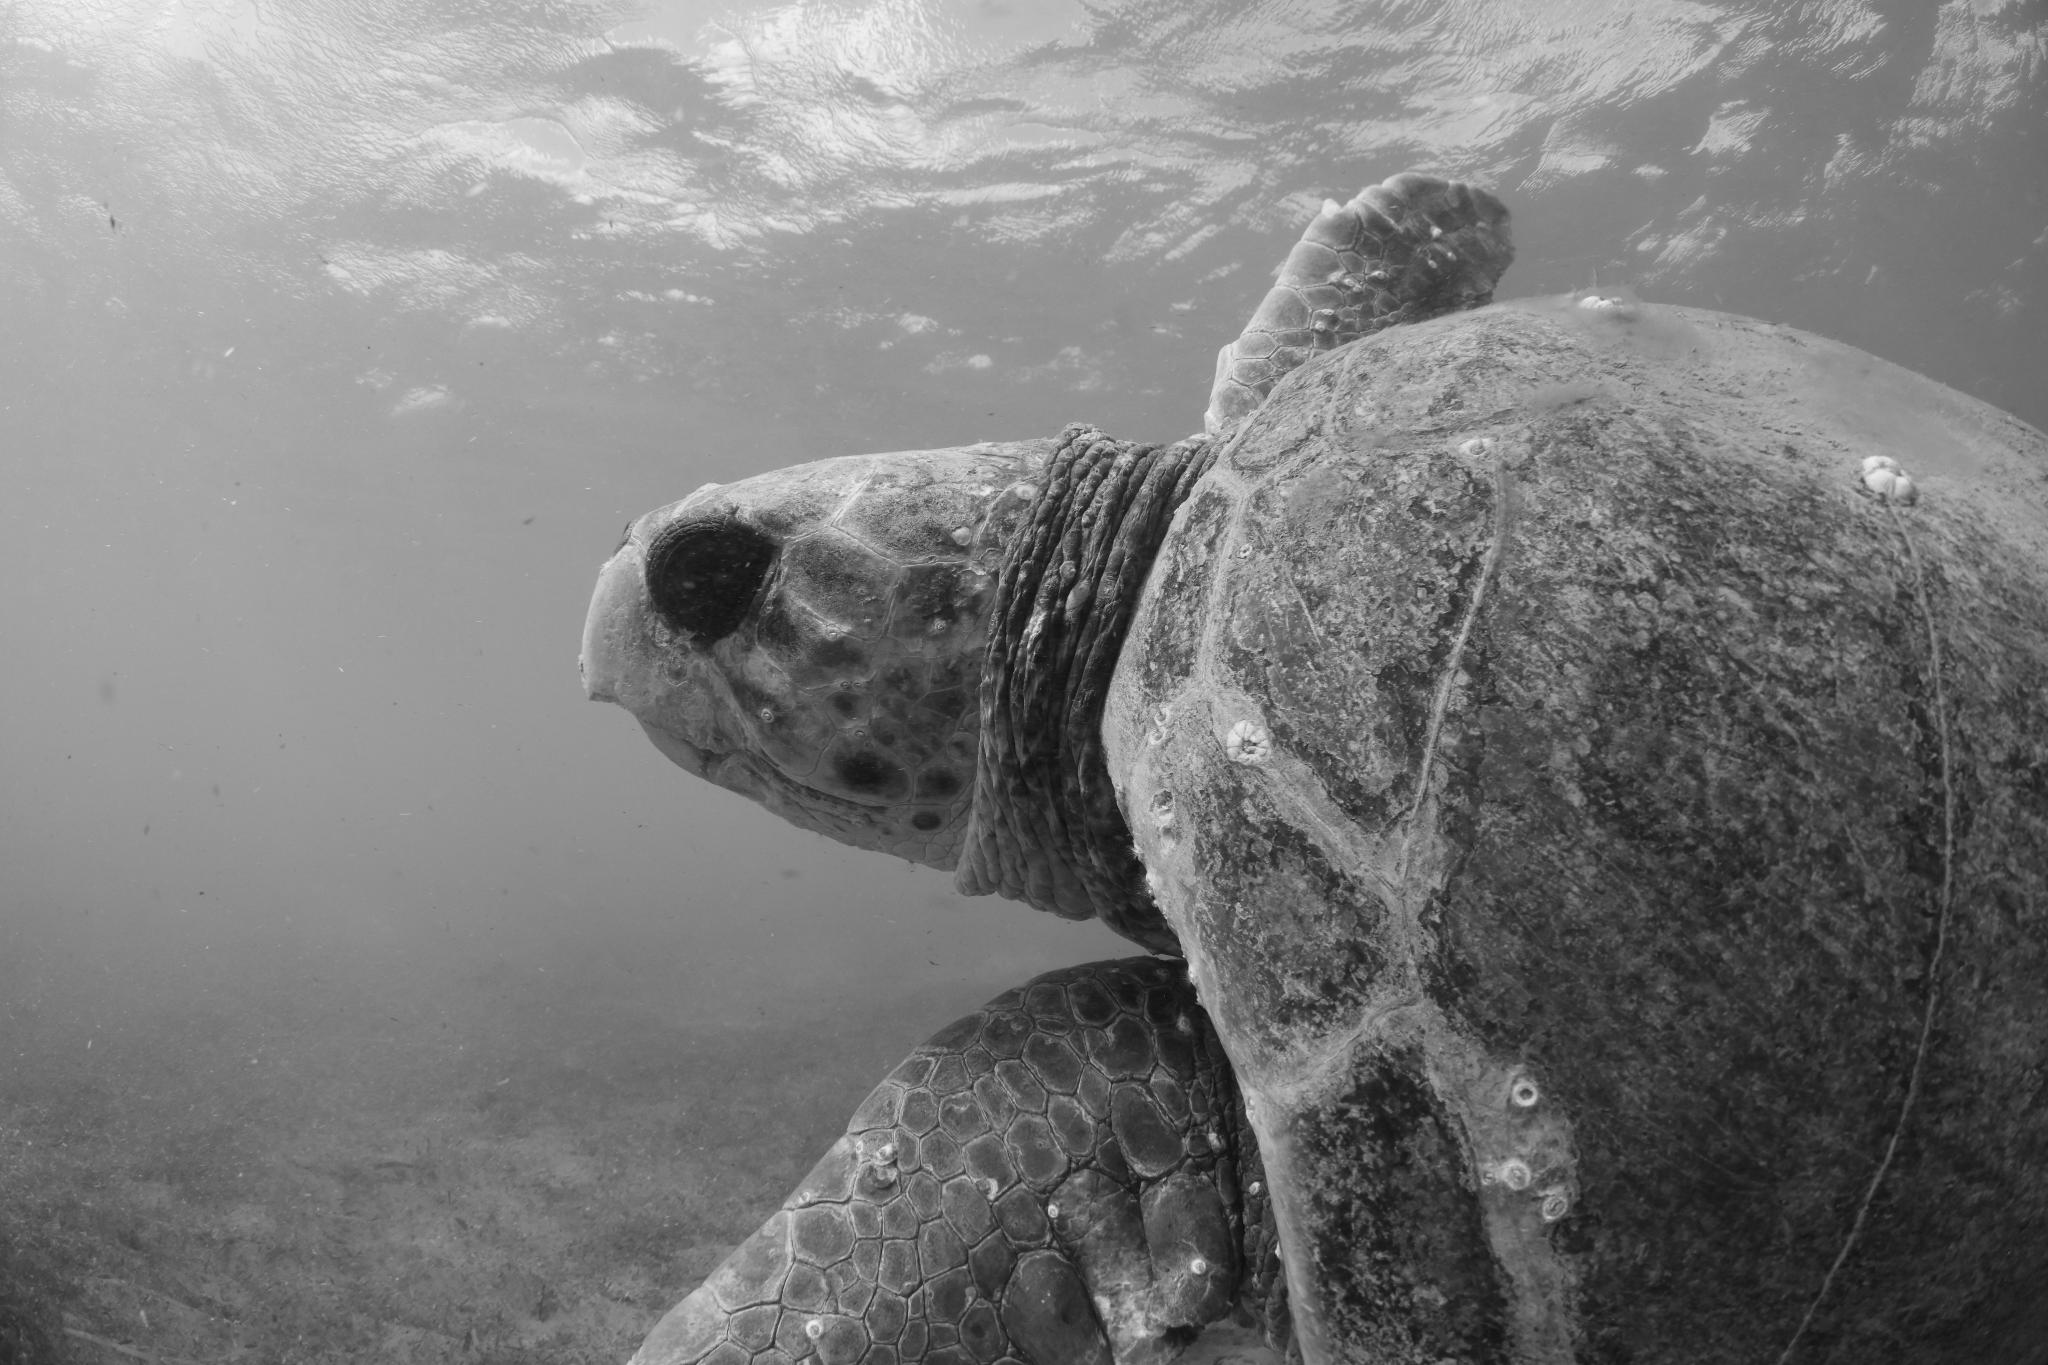Head: (582, 426, 1212, 954)
